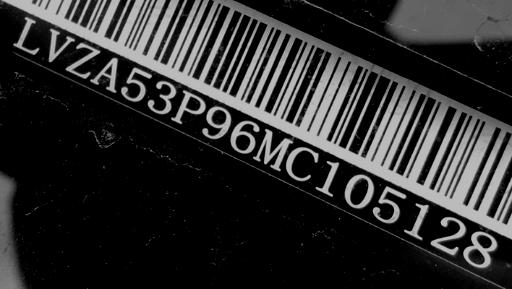letter: (248, 128, 298, 173), (168, 83, 210, 133), (426, 213, 470, 258), (63, 34, 101, 82), (462, 225, 502, 269), (280, 144, 324, 183), (146, 73, 178, 123), (341, 168, 379, 210), (398, 198, 434, 242), (371, 185, 409, 226), (10, 12, 44, 56), (312, 156, 346, 199), (120, 64, 152, 107), (196, 105, 234, 141), (46, 24, 76, 68), (88, 53, 118, 95), (225, 119, 261, 154)
